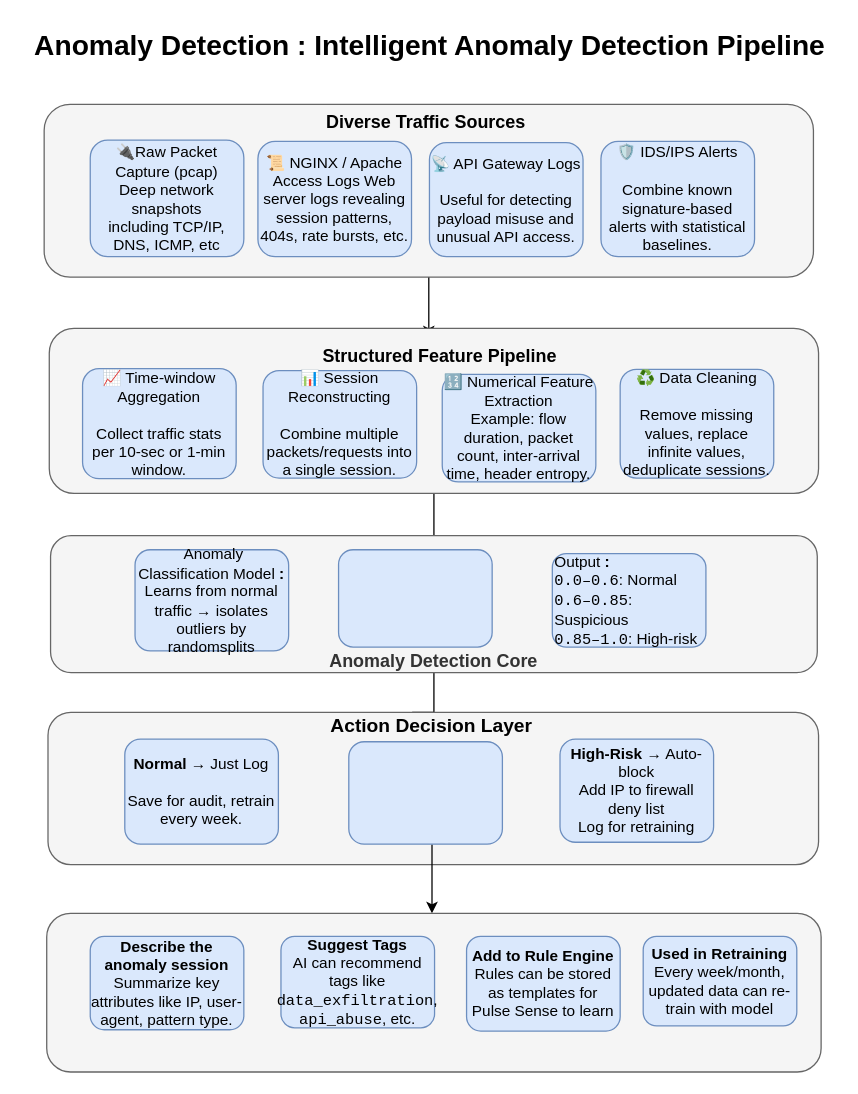
This 858x1094 diagram has some shape labels left out. The box of each missing label's shape, as (x1, y1, x2, y2) in pixels:
GPT-Enhanced Rule Assistant: (45, 912, 821, 1072)
Score Each Session : Anomaly score ∈ [0, 1]; threshold defined for auto flagging: (337, 548, 492, 647)
Suspicious → Alert Analyst Shown on Security Dashboard with session metadata: (348, 740, 502, 844)
